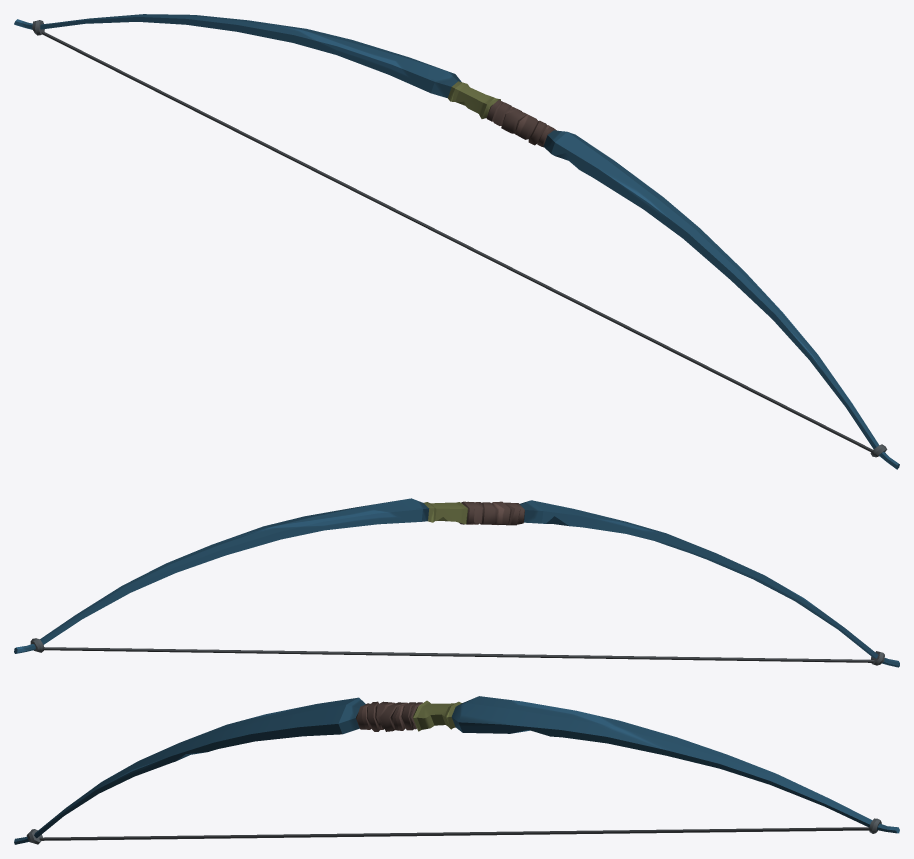
Rendered from bw-longbow-05.glb.
3 views of the same model, one above another, from view 1: azimuth 90°, elevation 25°; view 2: azimuth 150°, elevation 25°; view 3: azimuth 270°, elevation 25° (orthographic).
Visible parts, largest first — view 1: bw-longbow-05; view 2: bw-longbow-05; view 3: bw-longbow-05.
Part boxes in pixels (left/top/right/bottom): bw-longbow-05: left=14, top=14, right=899, bottom=469; bw-longbow-05: left=14, top=498, right=899, bottom=667; bw-longbow-05: left=14, top=696, right=899, bottom=844.
Size of the model in its own units: 1 by 0.5955 by 1.71.
1 material, 1 textured.
